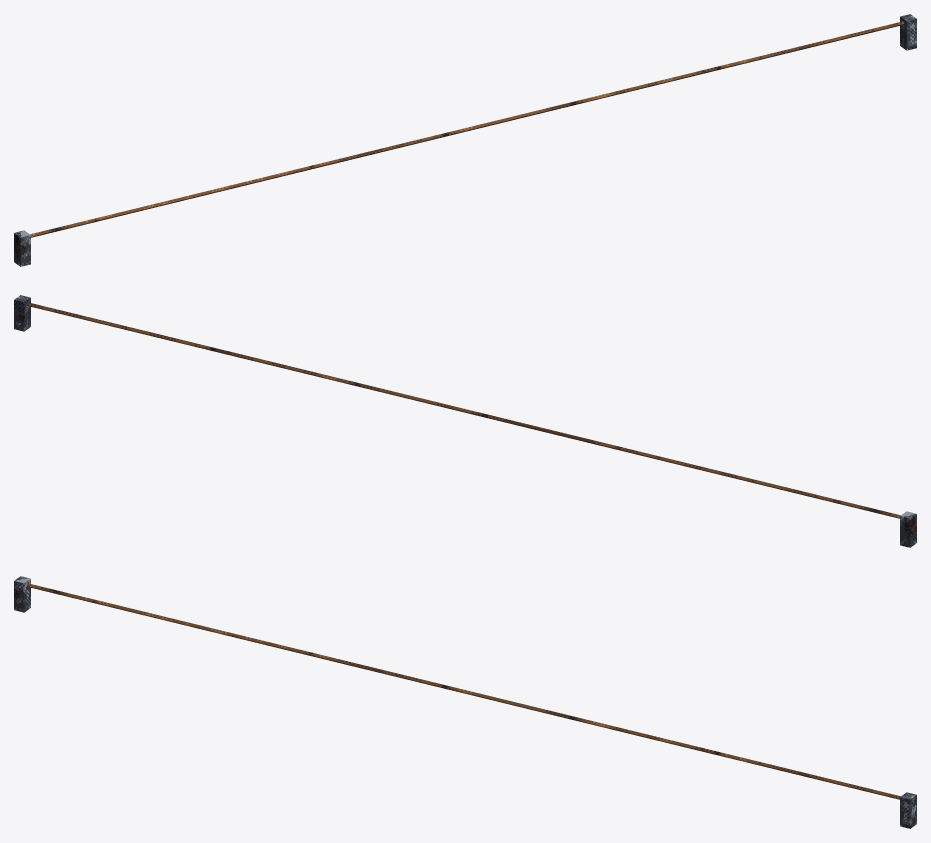
File: SM_Trap_Tripwire_01.glb
The picture shows the model from 3 angles, top to bottom: view 1: azimuth 30°, elevation 25°; view 2: azimuth 150°, elevation 25°; view 3: azimuth 330°, elevation 25°; orthographic projection.
Parts seen in each view (by area): view 1: rope_wire, iron_anchor_-1, iron_anchor_1; view 2: rope_wire, iron_anchor_-1, iron_anchor_1; view 3: rope_wire, iron_anchor_1, iron_anchor_-1.
Boxes of the visible parts, x1,y1,x2,y2 form: rope_wire: (30, 21, 904, 237); iron_anchor_-1: (14, 230, 30, 266); iron_anchor_1: (900, 14, 916, 50); rope_wire: (26, 302, 900, 518); iron_anchor_-1: (900, 511, 916, 547); iron_anchor_1: (14, 295, 30, 331); rope_wire: (26, 583, 900, 799); iron_anchor_1: (900, 792, 916, 828); iron_anchor_-1: (14, 576, 30, 612).
Size of the model in its own units: 4 by 0.125 by 0.051.
1 material, 1 textured.
